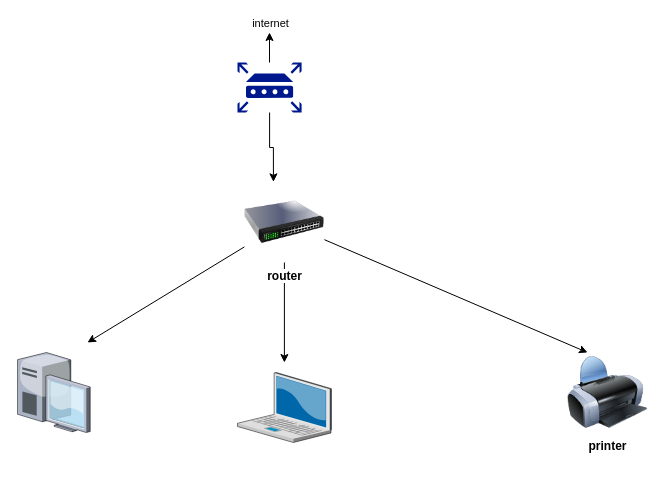
Some shapes in this 664 by 481 pixel diagram are drawn without their labels. The box of each missing label's shape, as (x1, y1, x2, y2) in pixels:
Desktop: (17, 352, 90, 432)
laptop: (237, 372, 331, 442)
